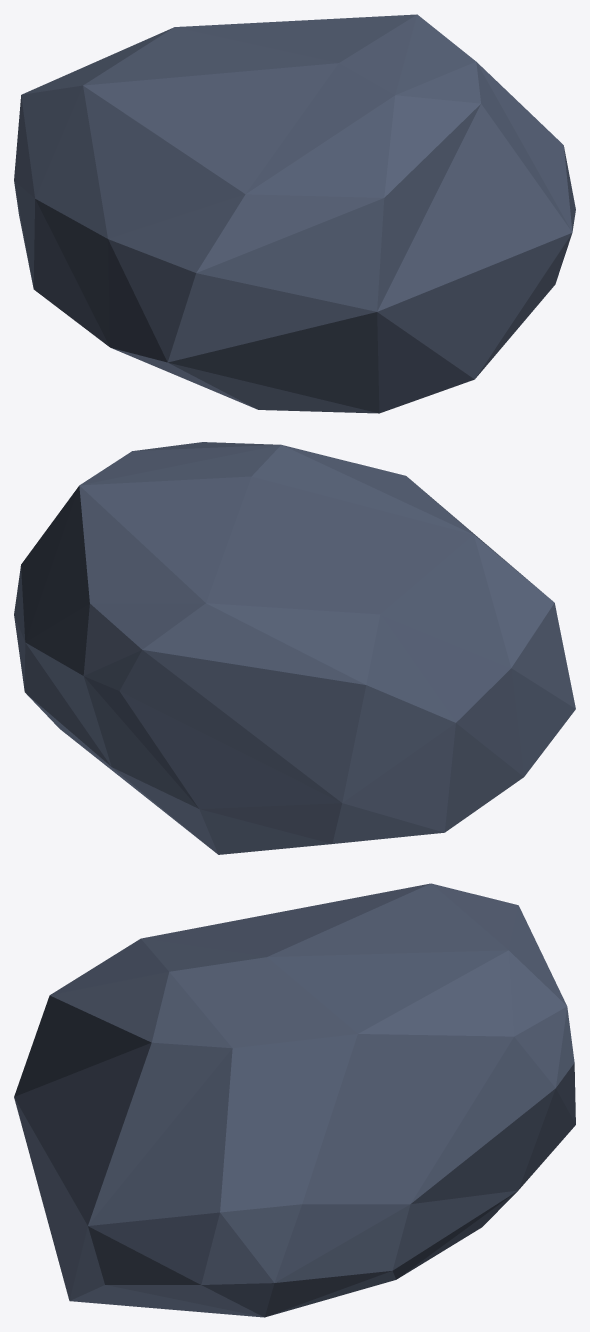
The model's file is rock3_col.FBX.
3 views of the same model, one above another, from view 1: azimuth 30°, elevation 25°; view 2: azimuth 150°, elevation 25°; view 3: azimuth 270°, elevation 25° (orthographic). The views are drawn at different scales.
Visible parts, largest first — view 1: rock3_col; view 2: rock3_col; view 3: rock3_col.
Part boxes in pixels (x1,y1,x2,y2): rock3_col: (14, 14, 575, 413); rock3_col: (14, 442, 575, 854); rock3_col: (14, 883, 575, 1317).
Size of the model in its own units: 208 by 125 by 189.
